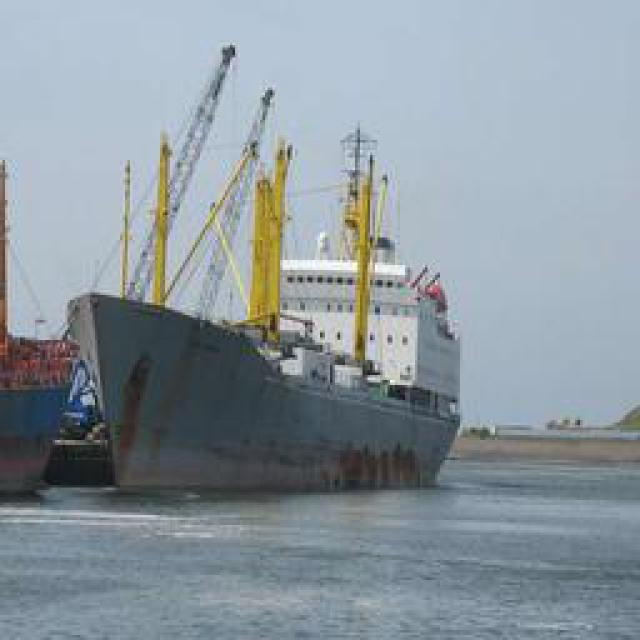Ship: (69, 77, 462, 495)
